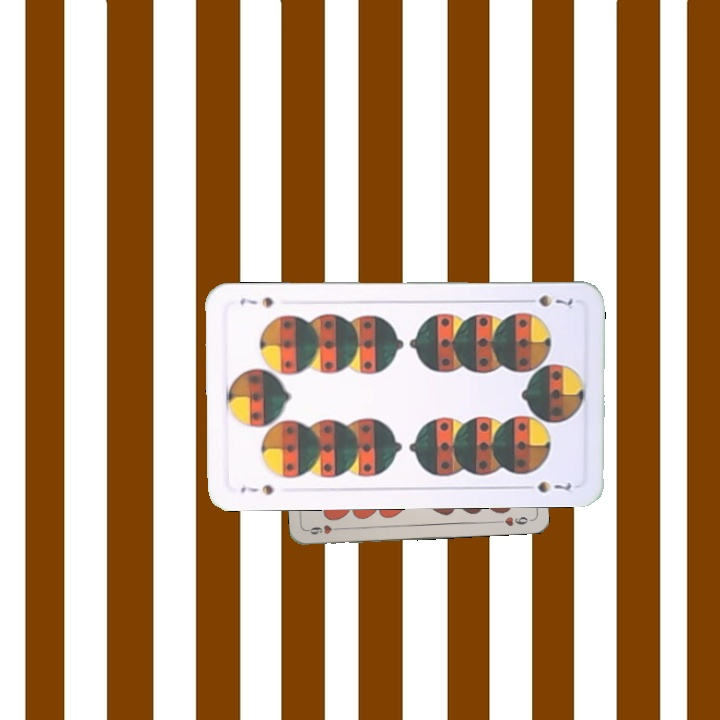H9: (304, 521, 344, 537)
S7: (519, 291, 575, 310), (237, 480, 276, 497)
